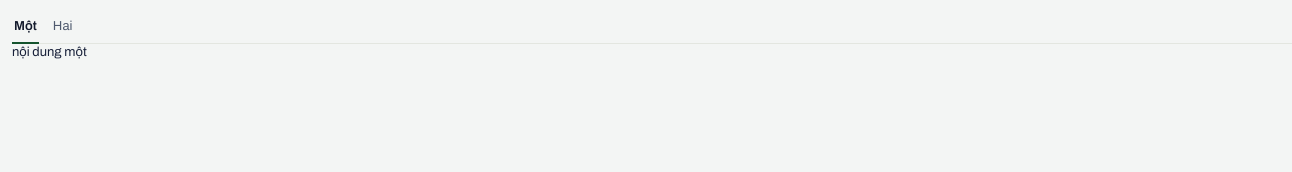
Scenario: Tabs (underline) › switches tab with the arrow keys
The image size is (1292, 172).
Click the tab "Một": (25, 28) [12,12,39,44]
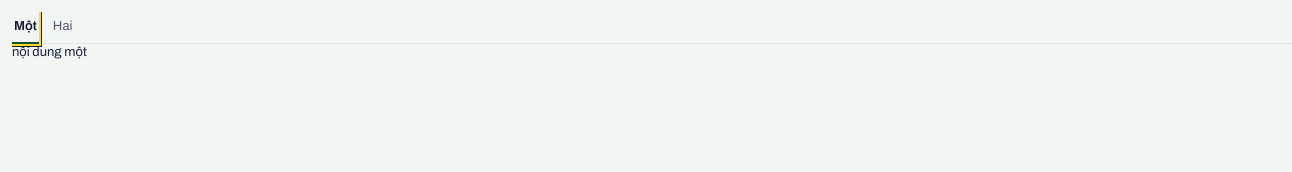
Press Arrowright
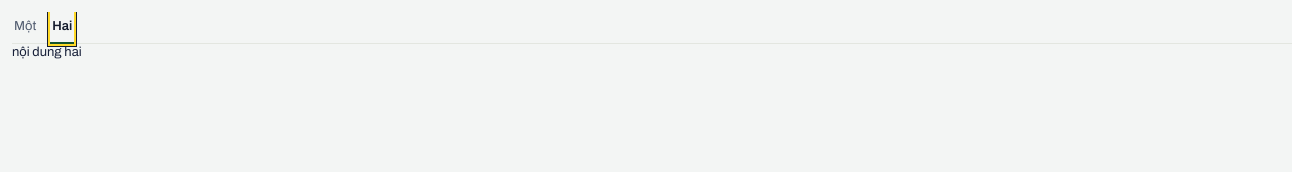
Check: the text "nội dung hai" is shown, box [12,45,82,59]
